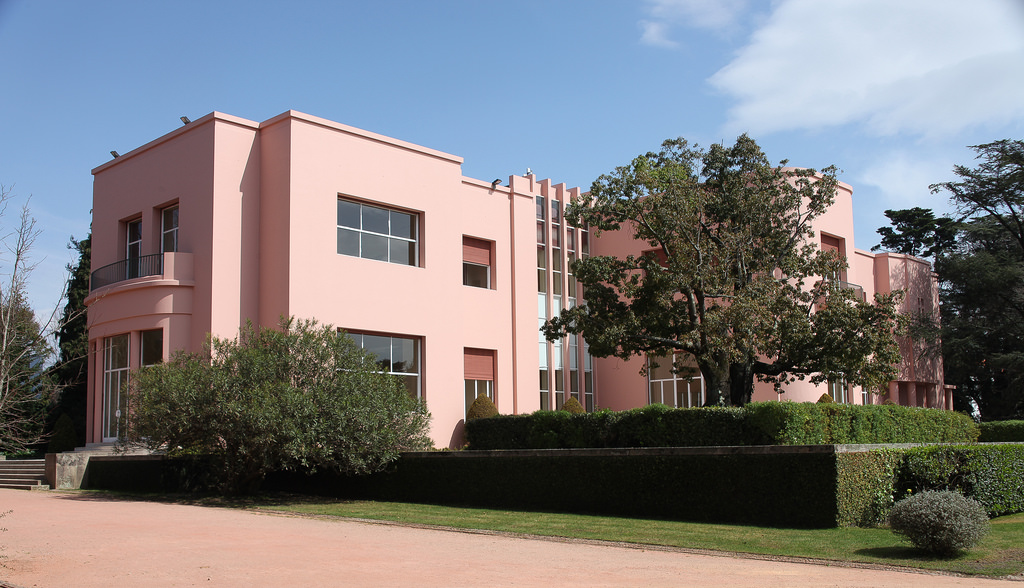serralves: (80, 108, 956, 448)
